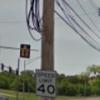bicycles: (29, 11, 57, 46)
